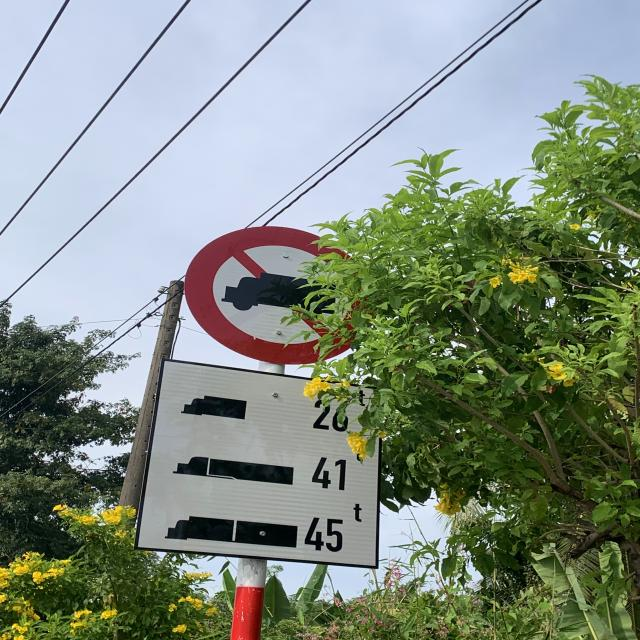Cam_Xe_Tai: (185, 228, 373, 362)
